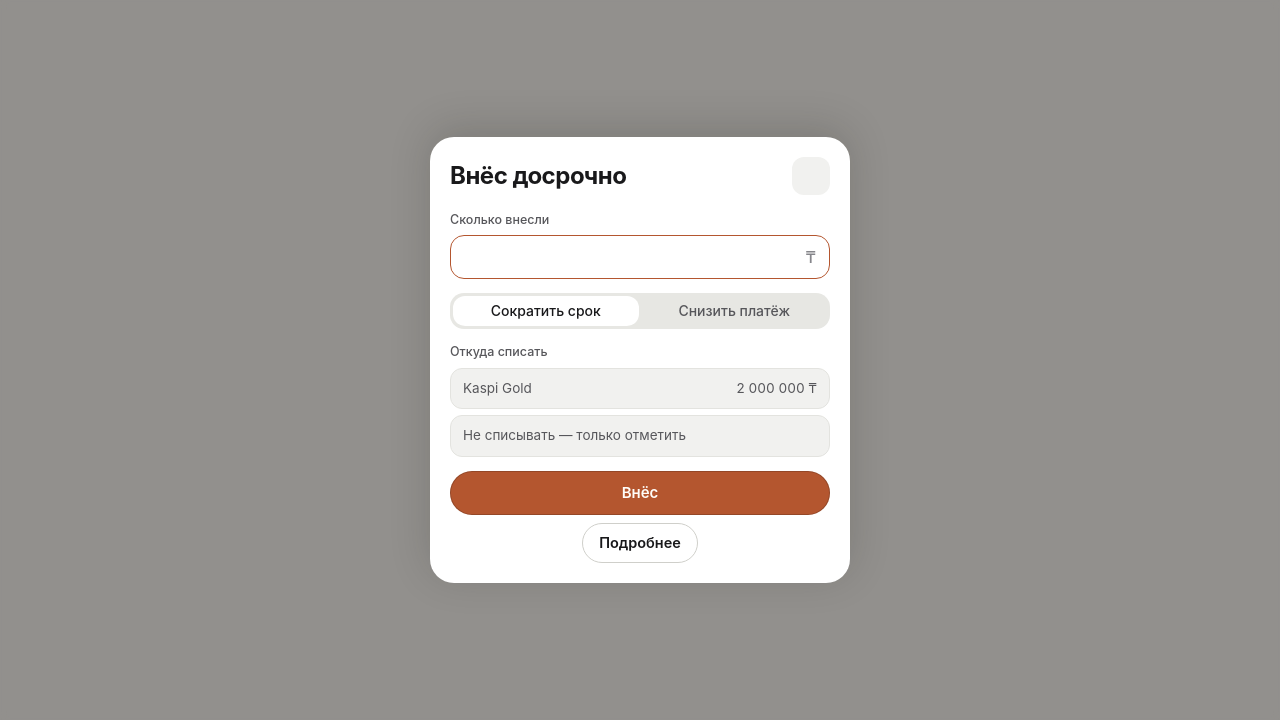
F2-04: лист PrepaySheet › сумма + счёт → applyPrepayment с { amount, mode, accountId }; остаток уменьшился
Type "200 000" into the field labelled "Сколько внесли ₸" at (640, 257), box [450,235,830,279]
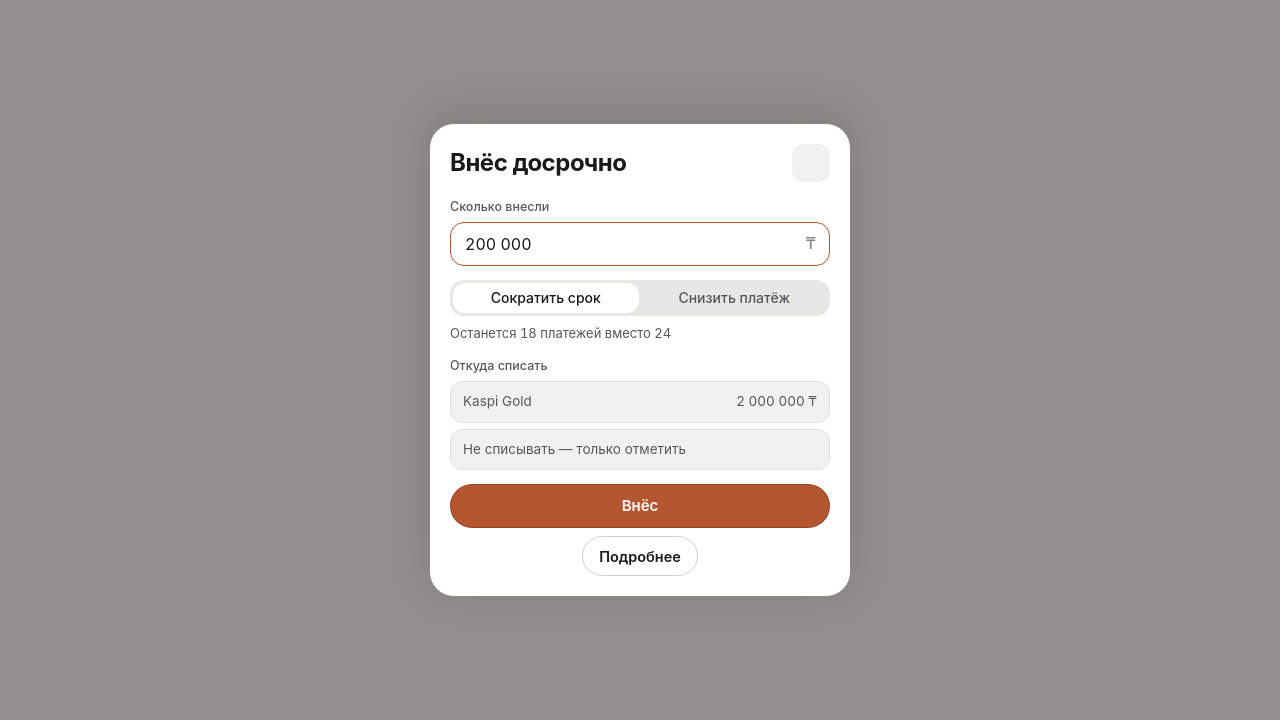
Click the button "Kaspi Gold 2 000 000 ₸" at (497, 401), box [450,381,830,423]
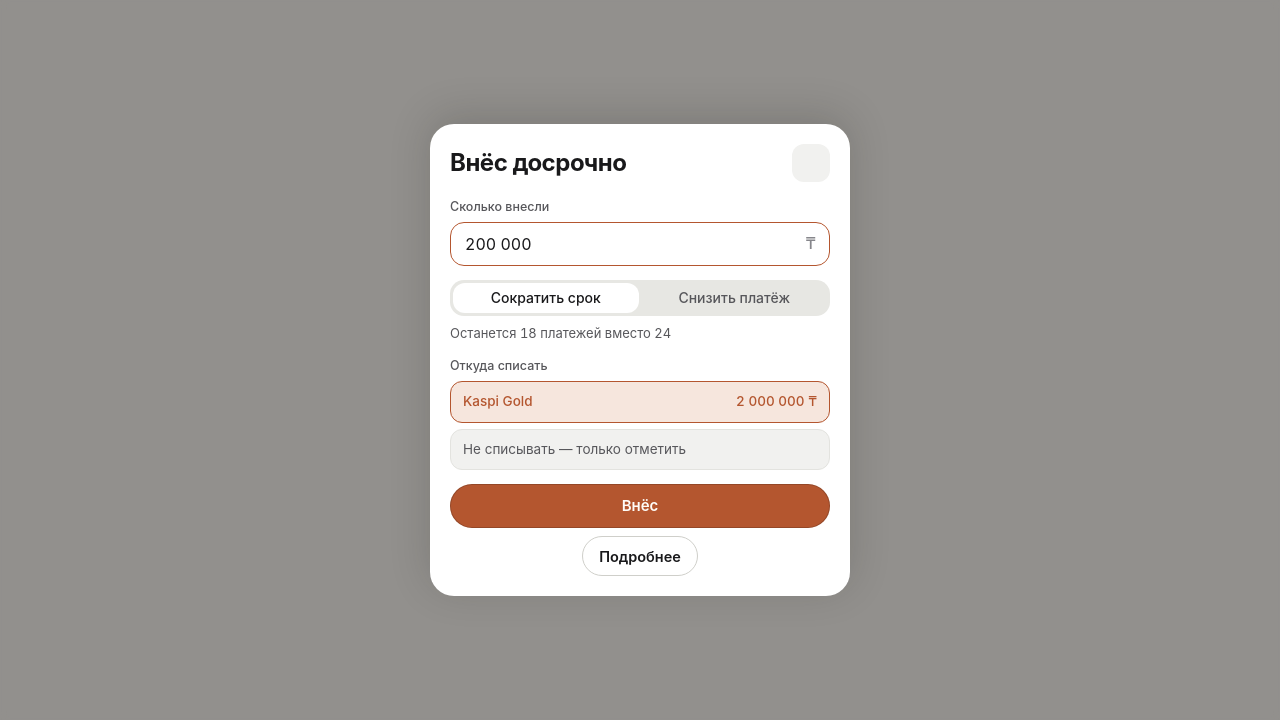
Click the button "Внёс" at (640, 506), box [450,484,830,528]
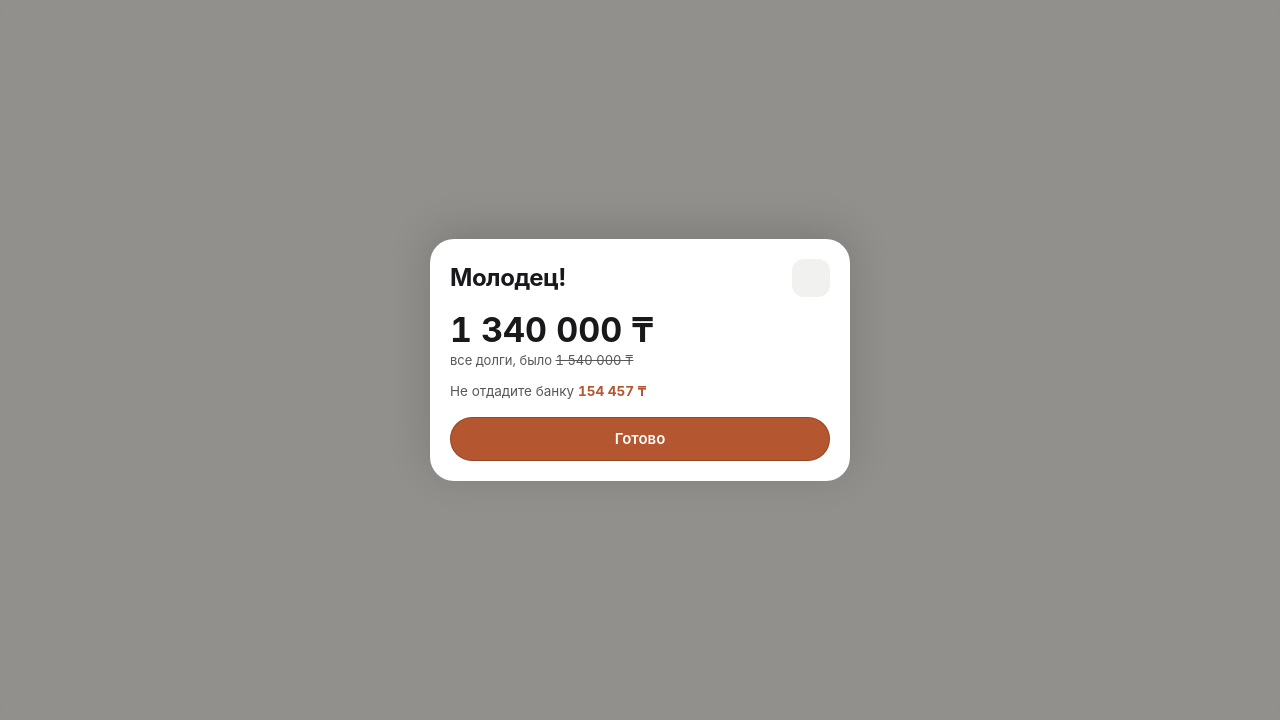
Expected: the element that starts with "все долги, было" is shown, [450,309,654,399]
